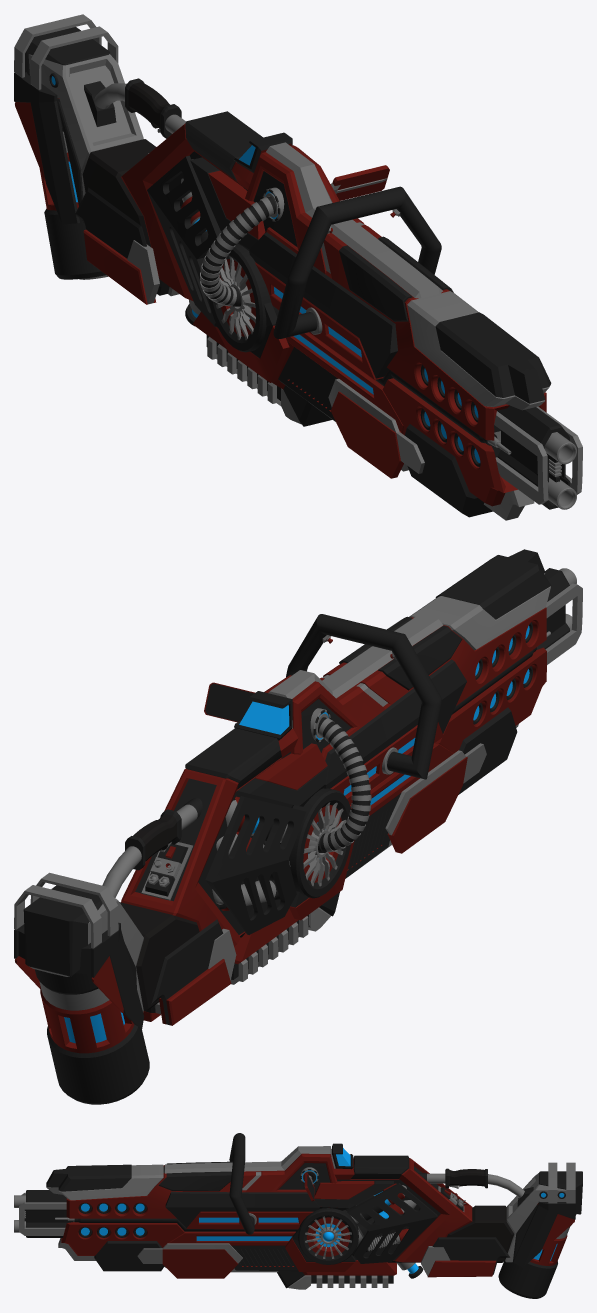
Rendered from HeavyPlasmaCaster.fbx.
3 views of the same model, one above another, from view 1: azimuth 30°, elevation 25°; view 2: azimuth 150°, elevation 25°; view 3: azimuth 270°, elevation 25° (orthographic). The views are drawn at different scales.
Visible parts, largest first — view 1: Cube, Cube.002, Cube.001, Power Core; view 2: Cube, Power Core, Cube.002, Cube.001; view 3: Cube, Power Core, Cube.002, Cube.001.
Part boxes in pixels (x1=…): Cube: x1=14, y1=14, x2=582, y2=520; Cube.002: x1=273, y1=186, x2=441, y2=338; Cube.001: x1=155, y1=147, x2=389, y2=306; Power Core: x1=39, y1=99, x2=108, y2=279; Cube: x1=14, y1=549, x2=582, y2=1030; Power Core: x1=35, y1=969, x2=149, y2=1104; Cube.002: x1=286, y1=614, x2=441, y2=779; Cube.001: x1=153, y1=682, x2=371, y2=872; Cube: x1=14, y1=1143, x2=582, y2=1289; Power Core: x1=498, y1=1204, x2=575, y2=1298; Cube.002: x1=229, y1=1133, x2=254, y2=1234; Cube.001: x1=303, y1=1171, x2=457, y2=1241.
Size of the model in its own units: 239 by 362 by 1245.
